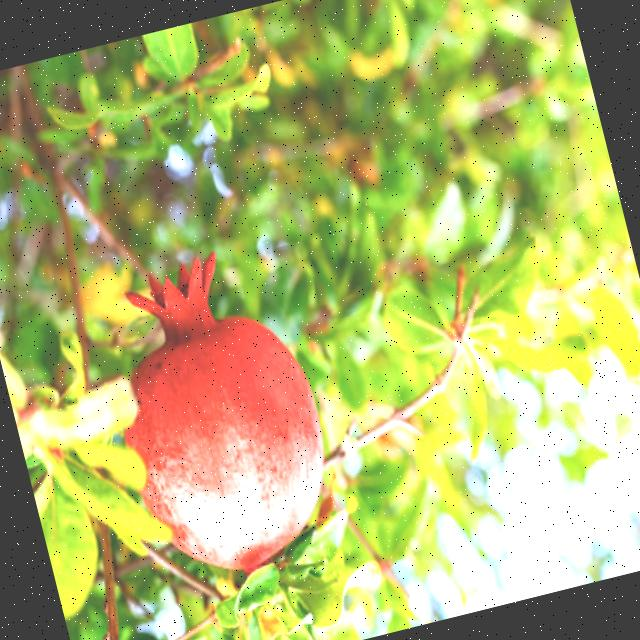Pomegranate: (78, 229, 356, 602)
